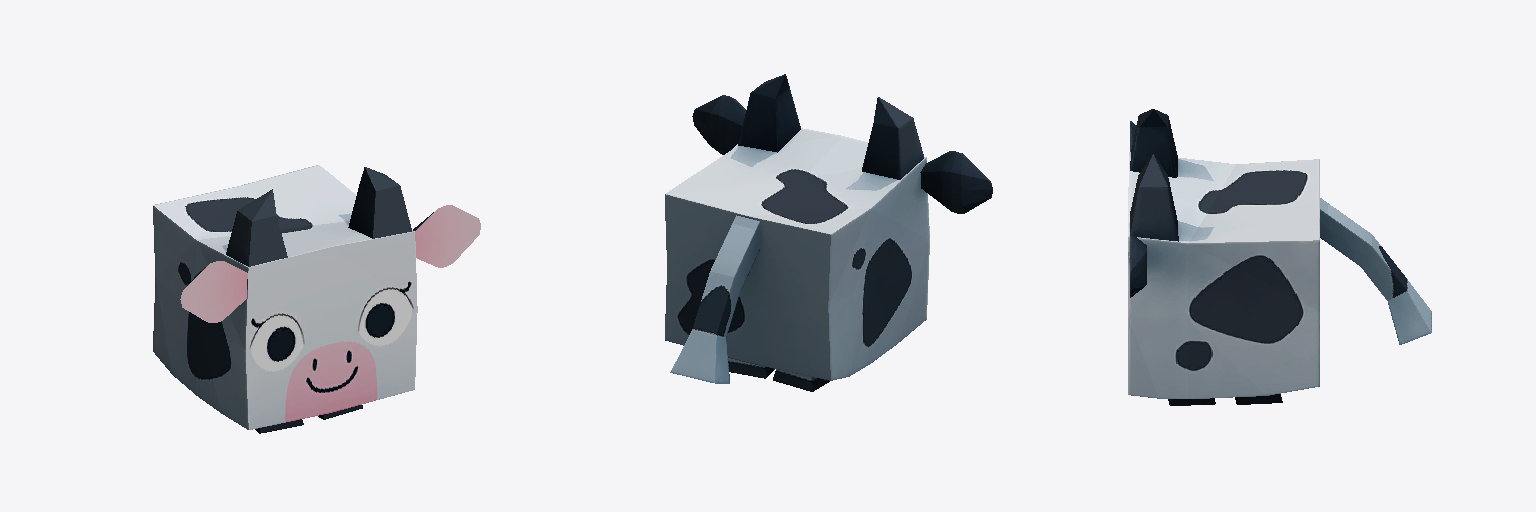
3 renders of one model, left to right at view 1: azimuth 30°, elevation 25°; view 2: azimuth 150°, elevation 25°; view 3: azimuth 270°, elevation 25°, orthographic.
Visible parts, largest first — view 1: Cow1; view 2: Cow1; view 3: Cow1.
Boxes of the visible parts, x1=… form: Cow1: x1=153, y1=165, x2=480, y2=433; Cow1: x1=665, y1=74, x2=992, y2=391; Cow1: x1=1128, y1=109, x2=1431, y2=405.
Size of the model in its own units: 3.1 by 2.46 by 2.71.
Materials: 1 (1 with a texture image).